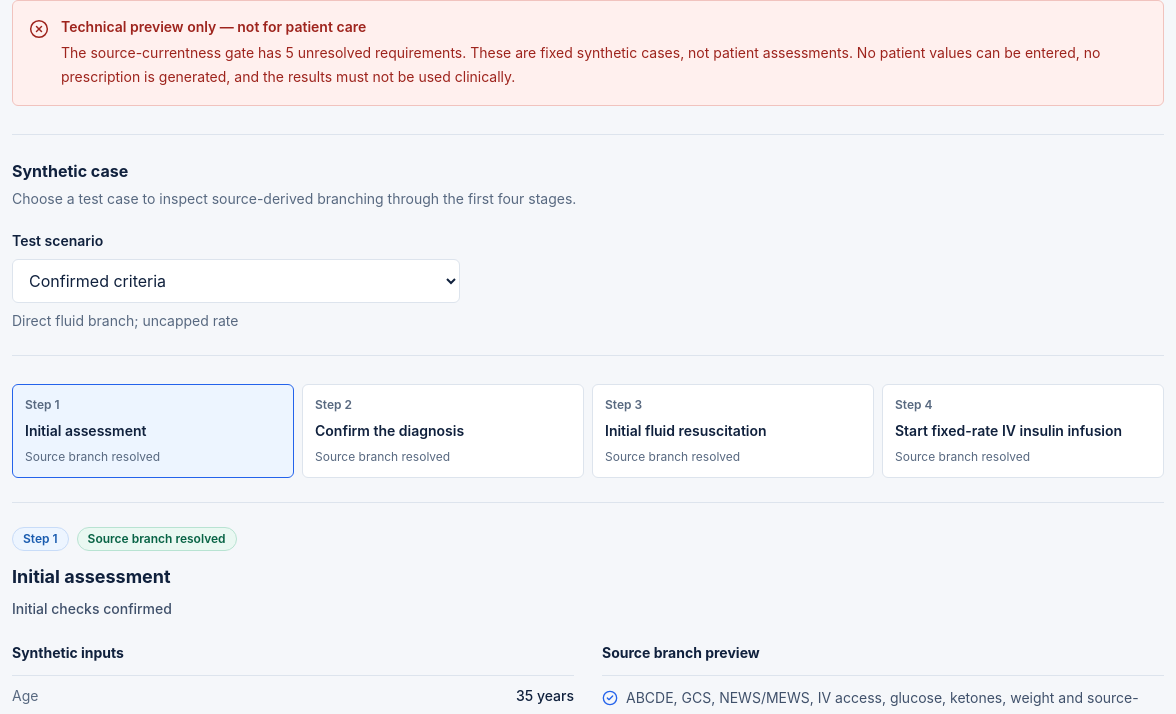
Test case: DKA Steps 1–4 technical review › changes synthetic branches without exposing patient-entry controls
The width and height of the screenshot is (1176, 714).
Expected: the message "Technical preview only" is shown, 12,0 -> 1164,106
Expected: the dropdown labelled "Test scenario" is shown, 12,259 -> 460,303
Click the button "Step 4": click(1023, 431) 882,384 -> 1164,478
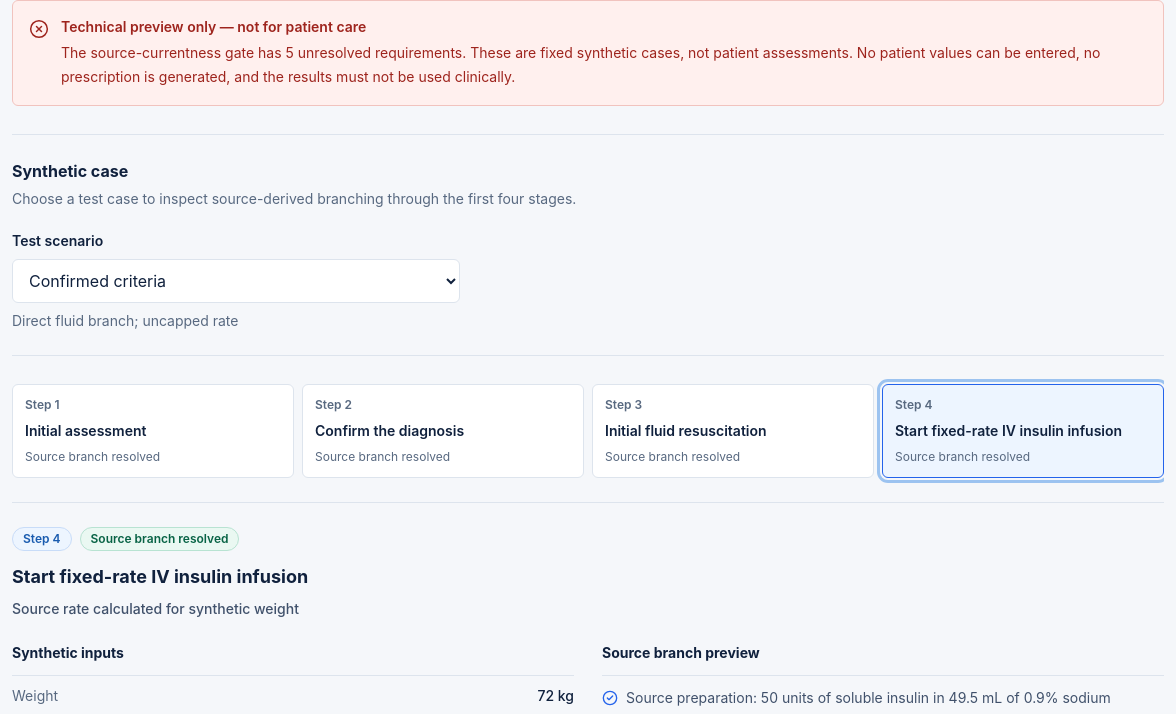
Select "Pressure recovers" in the dropdown labelled "Test scenario": (236, 281) 12,259 -> 460,303
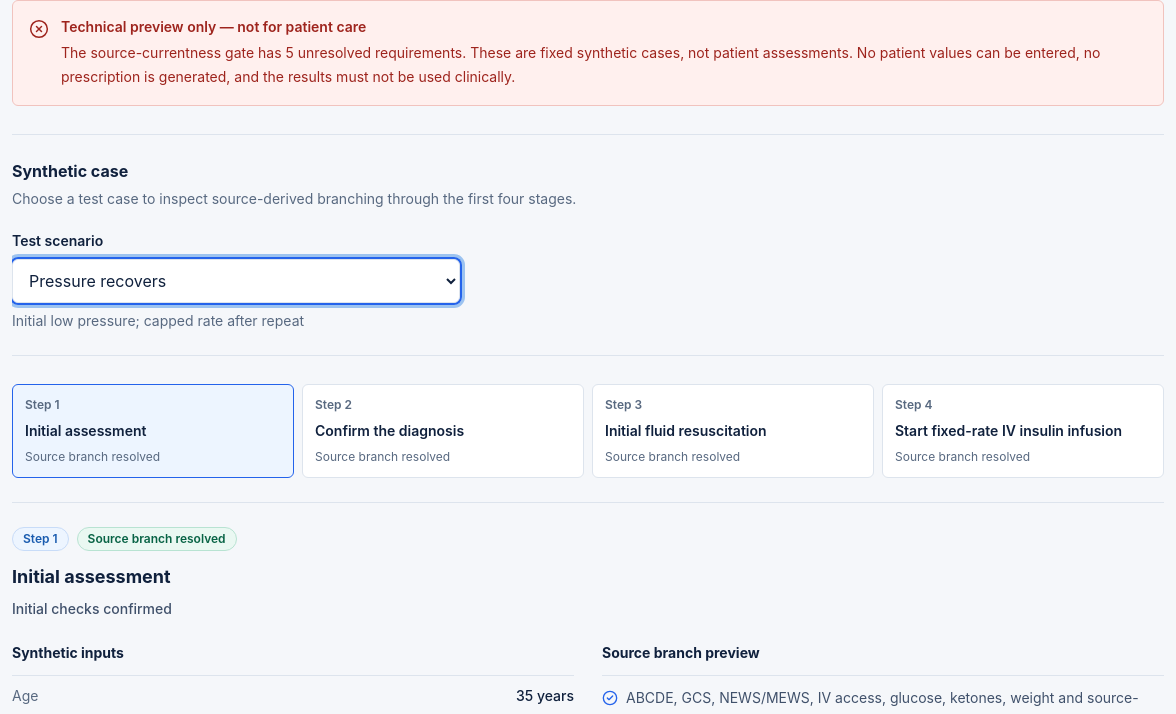
Click the button "Step 4": click(1023, 431) 882,384 -> 1164,478
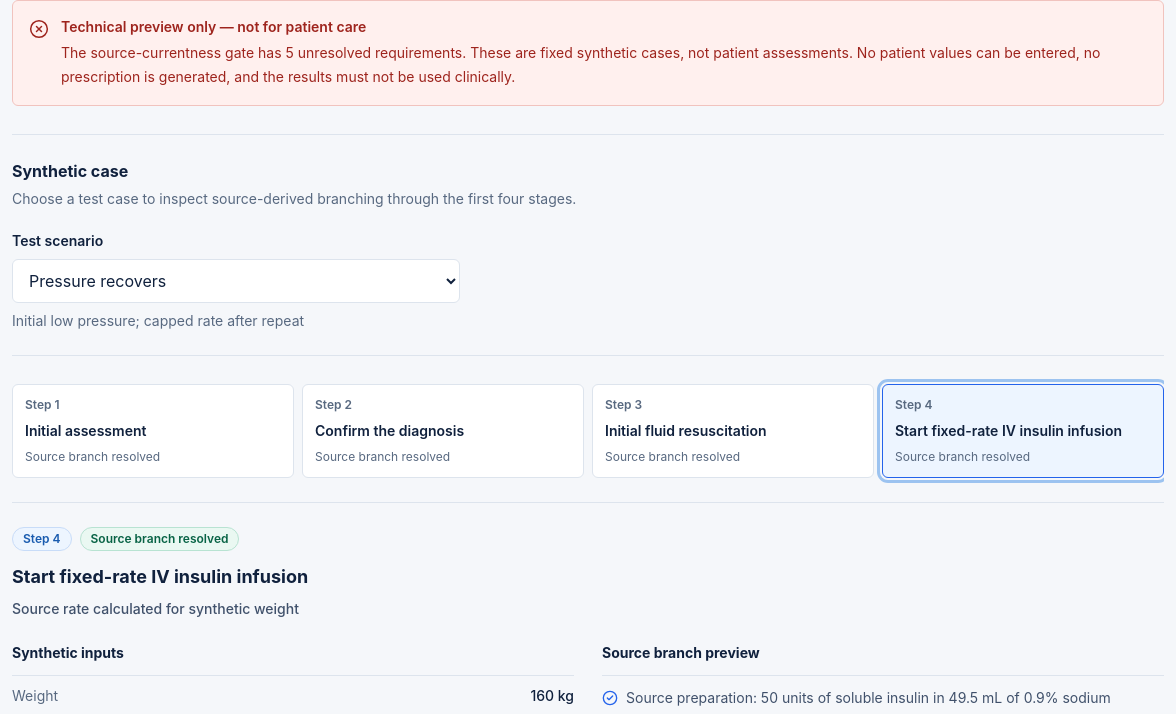
Select "Repeat pressure is 90" in the dropdown labelled "Test scenario": (236, 281) 12,259 -> 460,303
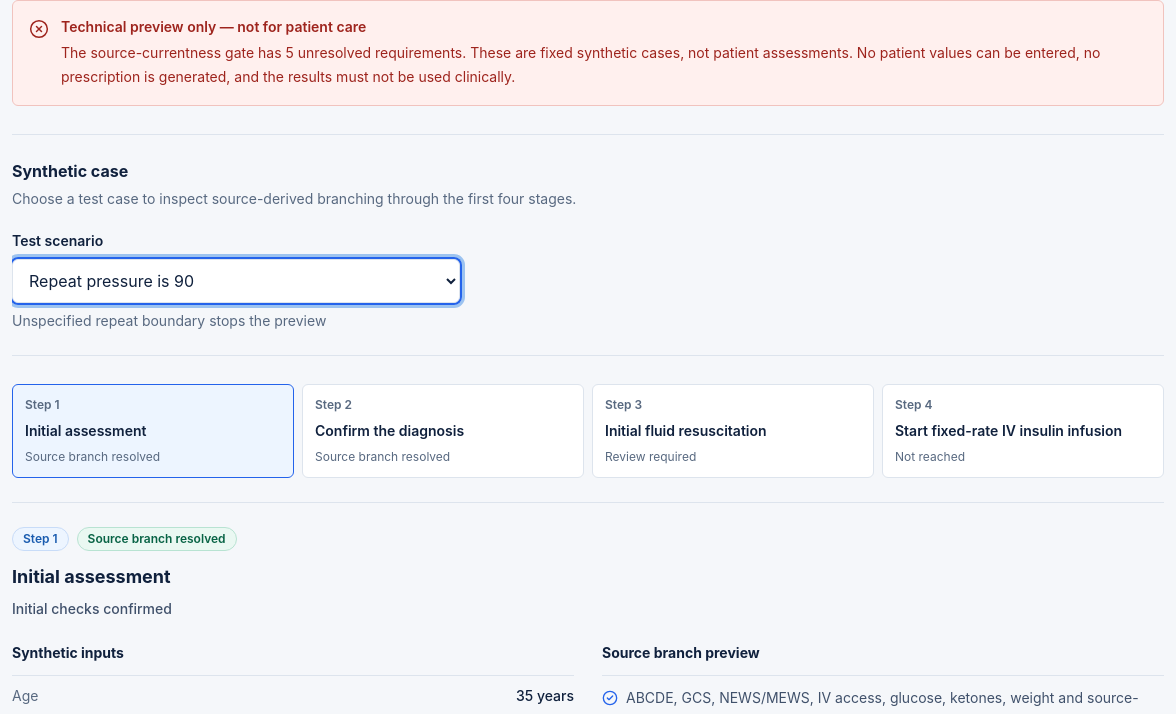
Click the button "Step 3 Initial fluid resuscitation Review required": click(733, 431) 592,384 -> 874,478
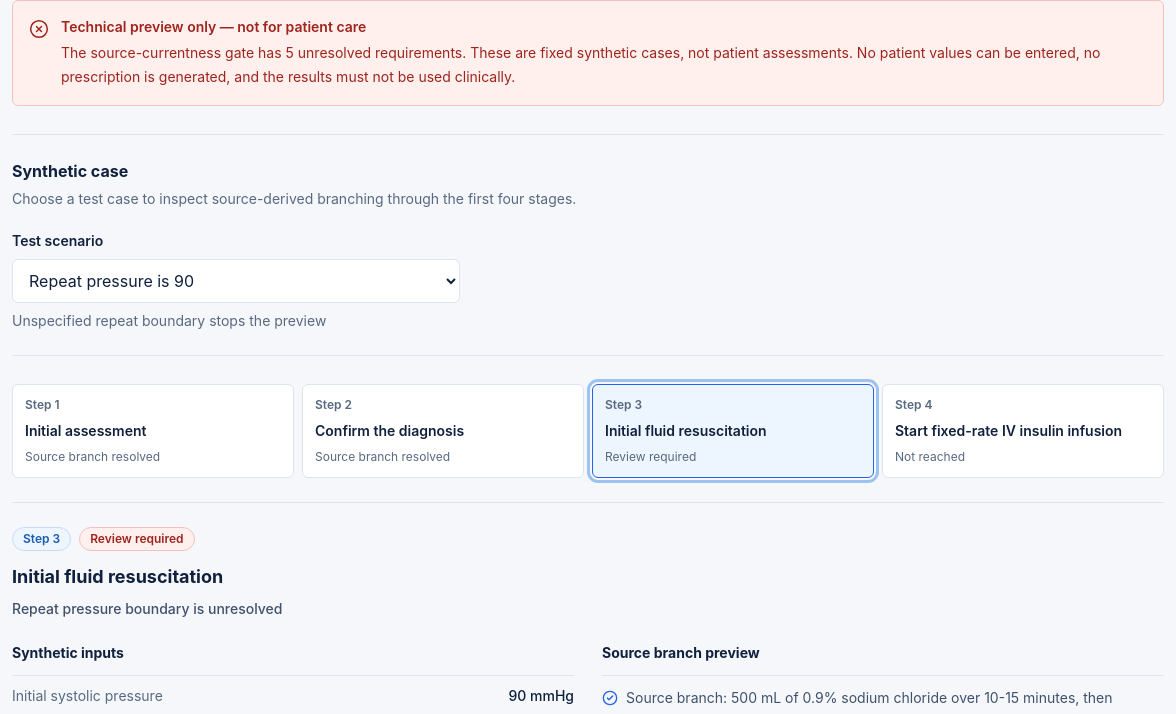
Result: the text "Repeat pressure boundary is unresolved" is shown at 12,600 -> 282,617
